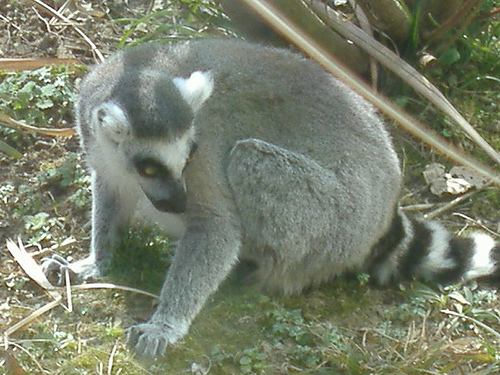cat: (40, 31, 498, 362)
